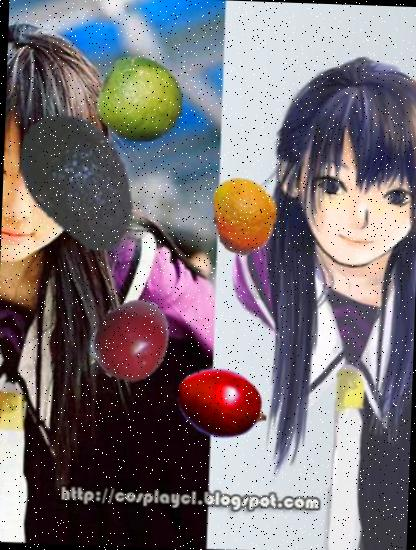Avocado: (3, 107, 155, 259)
Cherry: (88, 296, 178, 386)
Limes: (96, 56, 186, 146)
Mandarine: (204, 176, 286, 257)
Tamarillo: (175, 356, 271, 452)
